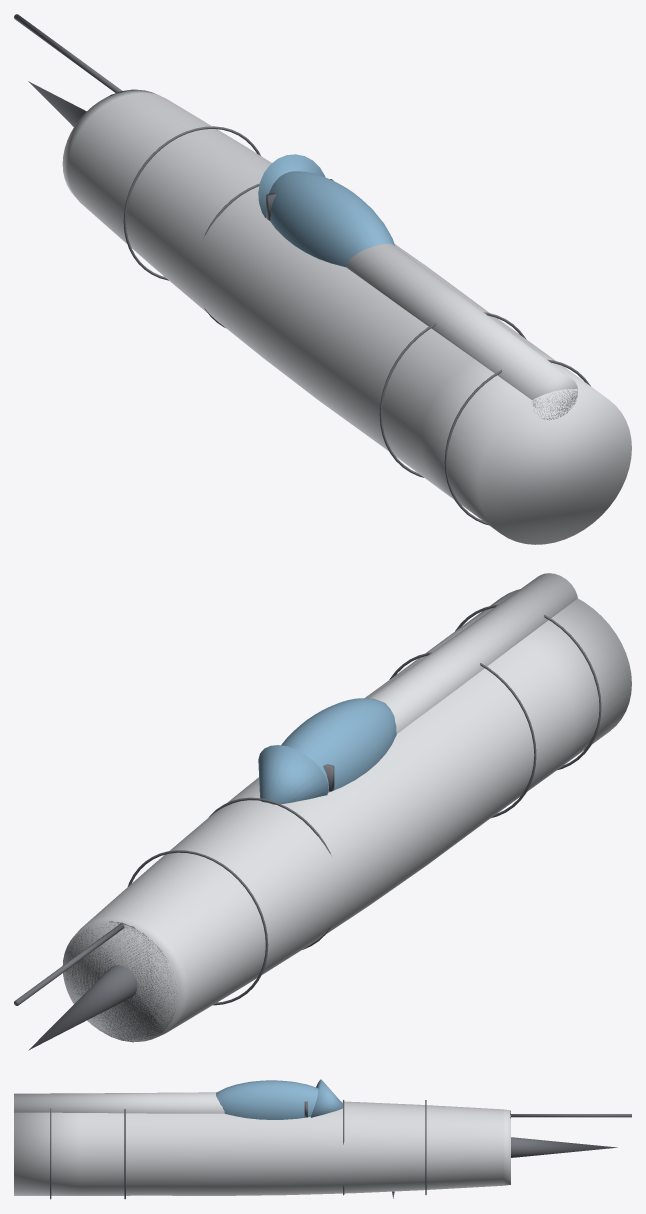
Rendered from mig21_front.glb.
3 renders of one model, top to bottom at view 1: azimuth 30°, elevation 25°; view 2: azimuth 150°, elevation 25°; view 3: azimuth 270°, elevation 25°, orthographic. The views are drawn at different scales.
Visible parts, largest first — view 1: mig21_front; view 2: mig21_front; view 3: mig21_front.
Boxes of the visible parts, x1,y1,x2,y2 form: mig21_front: (14,14,631,544); mig21_front: (14,573,631,1050); mig21_front: (14,1079,631,1199).
Bounding box in the file's own units: 0.794 × 0.9978 × 4.72.
